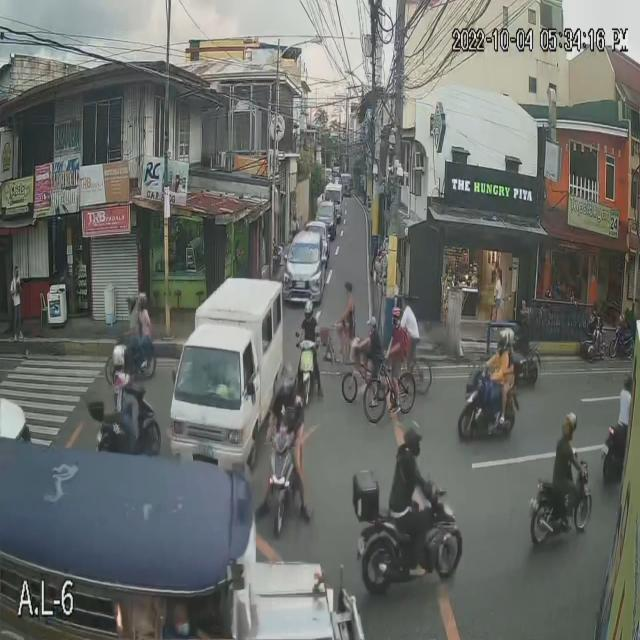Full-Faced: (402, 416, 425, 456), (559, 407, 576, 442), (113, 337, 129, 370), (280, 363, 298, 390), (125, 291, 142, 317), (303, 294, 316, 322), (496, 330, 510, 349), (138, 289, 150, 310)
Invalid: (363, 313, 378, 334), (388, 306, 402, 328)
Not-Wearing-Helmet: (341, 278, 356, 301)
